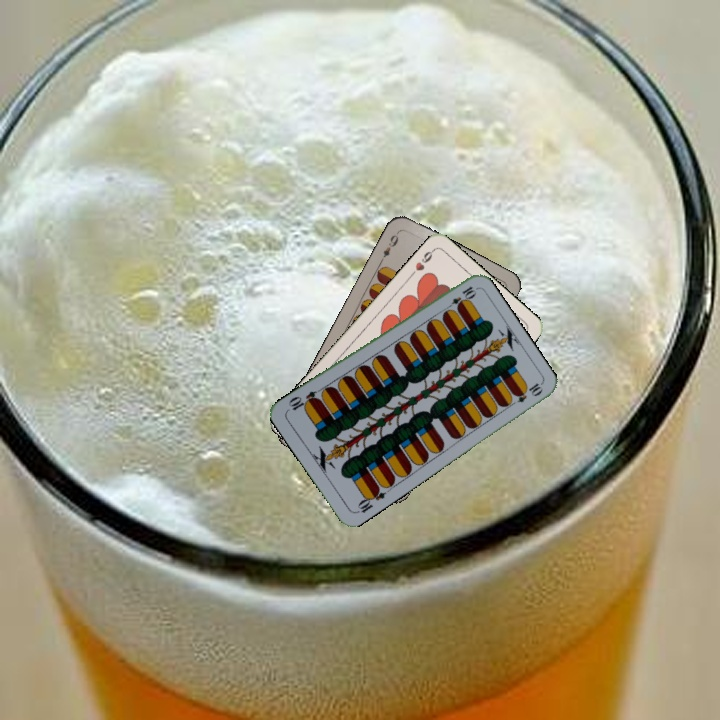E10: (352, 483, 388, 516), (442, 282, 478, 313)
E9: (376, 227, 401, 265)
H9: (406, 245, 437, 279)
